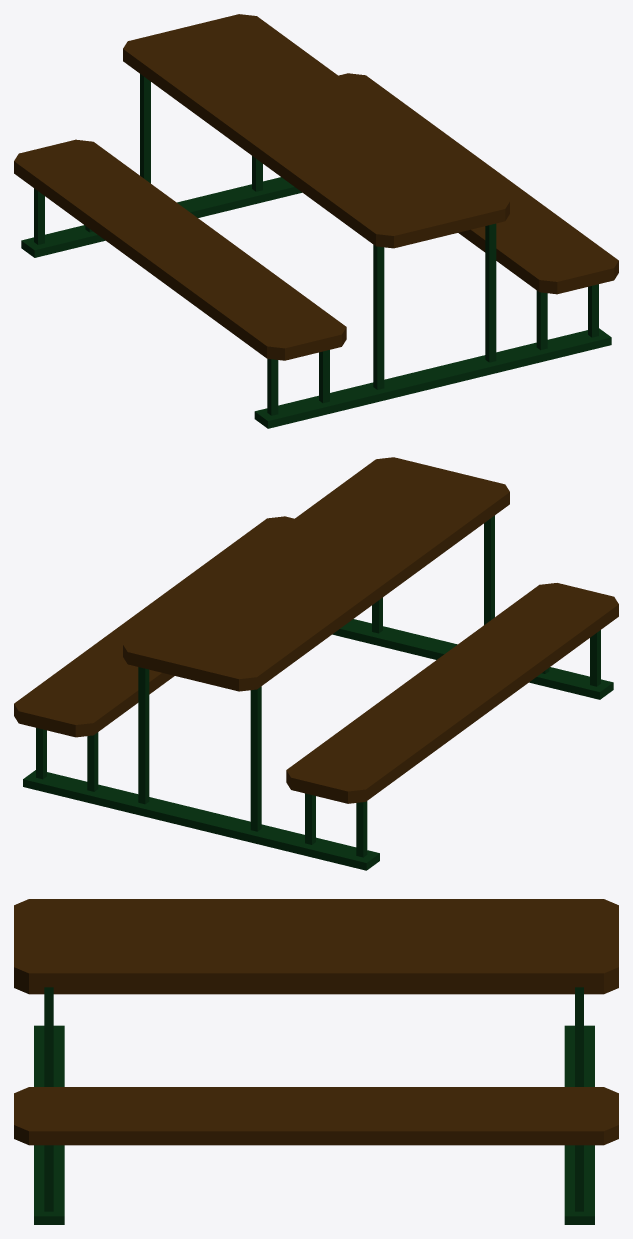
Rendered from bench2.FBX.
3 views of the same model, one above another, from view 1: azimuth 30°, elevation 25°; view 2: azimuth 150°, elevation 25°; view 3: azimuth 270°, elevation 25° (orthographic). The views are drawn at different scales.
Parts seen in each view (by area): view 1: bench 2; view 2: bench 2; view 3: bench 2.
Boxes of the visible parts, x1=… form: bench 2: x1=14, y1=14, x2=618, y2=428; bench 2: x1=14, y1=457, x2=618, y2=870; bench 2: x1=14, y1=899, x2=618, y2=1224.
Bounding box in the file's own units: 129 × 59.9 × 169.
